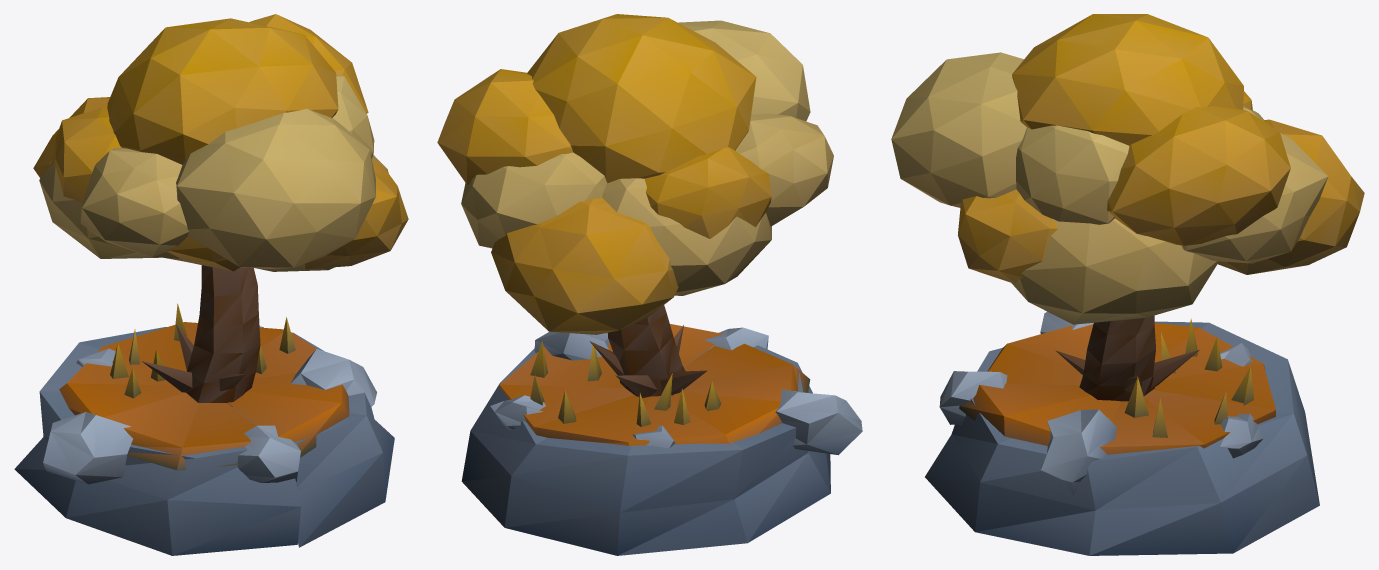
The model's file is pohon_oak_autumn_247027.glb.
The picture shows the model from 3 angles, left to right: view 1: azimuth 30°, elevation 25°; view 2: azimuth 150°, elevation 25°; view 3: azimuth 270°, elevation 25°; orthographic projection. The views are drawn at different scales.
Parts seen in each view (by area): view 1: Dedaunan_Kanopi, Pulau_Batu_Tepi_Sungai, Batang_Dan_Akar; view 2: Dedaunan_Kanopi, Pulau_Batu_Tepi_Sungai, Batang_Dan_Akar; view 3: Dedaunan_Kanopi, Pulau_Batu_Tepi_Sungai, Batang_Dan_Akar.
Part boxes in pixels (x1,y1,x2,y2): Dedaunan_Kanopi: (33, 14, 408, 271); Pulau_Batu_Tepi_Sungai: (14, 303, 394, 555); Batang_Dan_Akar: (141, 265, 260, 406); Dedaunan_Kanopi: (437, 14, 833, 334); Pulau_Batu_Tepi_Sungai: (461, 324, 862, 555); Batang_Dan_Akar: (589, 305, 707, 398); Dedaunan_Kanopi: (891, 14, 1364, 324); Pulau_Batu_Tepi_Sungai: (925, 311, 1319, 555); Batang_Dan_Akar: (1055, 315, 1199, 401).
Size of the model in its own units: 5.71 by 6.82 by 6.29.
